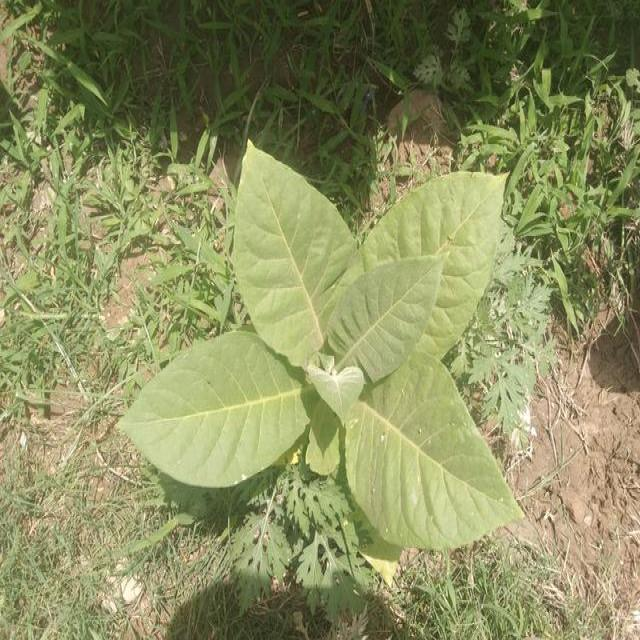crop: (139, 148, 519, 544)
